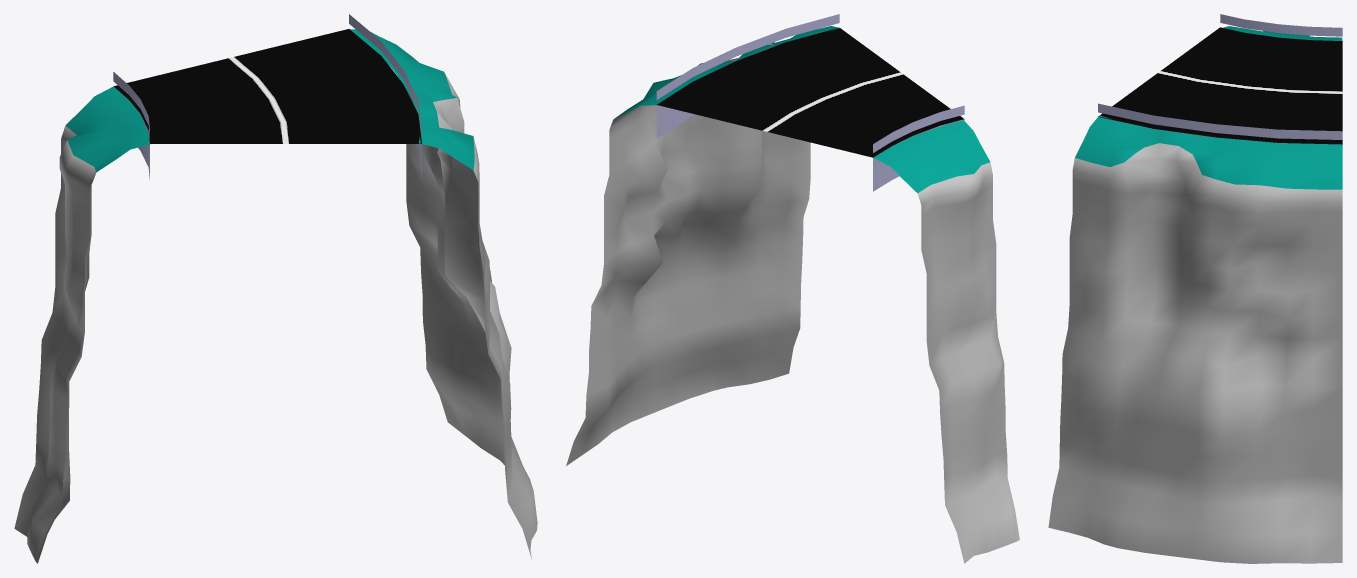
3 views of the same model, side by side, from view 1: azimuth 30°, elevation 25°; view 2: azimuth 150°, elevation 25°; view 3: azimuth 270°, elevation 25° (orthographic). The views are drawn at different scales.
Parts seen in each view (by area): view 1: cliff_2, Mesh, cliff_1, guardRail_2; view 2: cliff_2, cliff_1, Mesh, guardRail_2, pylon, guardRail_1; view 3: cliff_2, Mesh, guardRail_2, guardRail_1, cliff_1.
Part boxes in pixels (x1,y1,x2,y2): cliff_2: (350,29,537,559); Mesh: (114,29,421,143); cliff_1: (14,86,150,563); guardRail_2: (349,14,421,136); cliff_2: (566,26,840,465); cliff_1: (873,120,1019,563); Mesh: (657,27,963,157); guardRail_2: (656,14,839,99); pylon: (656,105,964,191); guardRail_1: (873,105,964,152); cliff_2: (1048,115,1342,563); Mesh: (1098,27,1342,144); guardRail_2: (1098,103,1342,139); guardRail_1: (1220,14,1342,36); cliff_1: (1223,26,1342,40).
Size of the model in its own units: 19.21 by 17.56 by 12.02.
